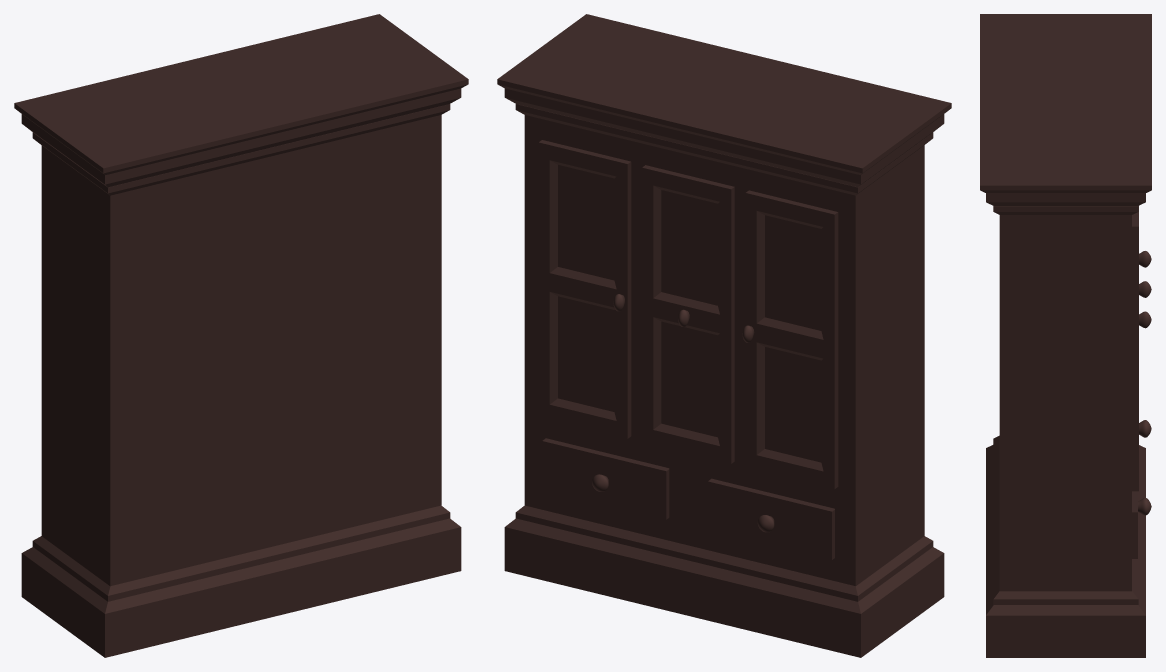
File: Armoire2_7.fbx
3 views of the same model, side by side, from view 1: azimuth 30°, elevation 25°; view 2: azimuth 150°, elevation 25°; view 3: azimuth 270°, elevation 25° (orthographic). The views are drawn at different scales.
Parts seen in each view (by area): view 1: pCube2388, pCube2389, pCube2386, pCube2385, pCube2387, pCube2390; view 2: pCube2388, pCube2389, pCube2424, pCube2420, pCube2423, pCube2386, pCube2385, pCube2406, pCube2414, pCube2387, pCube2390; view 3: pCube2388, pCube2389, pCube2386, pCube2385, pCube2387, pCube2420, pCube2390, pCube2406.
Boxes of the visible parts, bbox=[...] form: pCube2388: bbox=[41, 115, 441, 586]; pCube2389: bbox=[14, 14, 468, 174]; pCube2386: bbox=[21, 518, 461, 657]; pCube2385: bbox=[32, 505, 450, 601]; pCube2387: bbox=[21, 88, 461, 187]; pCube2390: bbox=[32, 104, 450, 195]; pCube2388: bbox=[524, 115, 924, 586]; pCube2389: bbox=[497, 14, 951, 174]; pCube2424: bbox=[745, 190, 838, 489]; pCube2420: bbox=[538, 140, 631, 438]; pCube2423: bbox=[642, 165, 734, 463]; pCube2386: bbox=[504, 518, 944, 657]; pCube2385: bbox=[515, 505, 933, 601]; pCube2406: bbox=[542, 438, 669, 519]; pCube2414: bbox=[708, 478, 834, 559]; pCube2387: bbox=[504, 88, 944, 187]; pCube2390: bbox=[515, 104, 933, 195]; pCube2388: bbox=[999, 215, 1131, 591]; pCube2389: bbox=[980, 14, 1151, 192]; pCube2386: bbox=[986, 445, 1145, 657]; pCube2385: bbox=[993, 435, 1138, 604]; pCube2387: bbox=[986, 193, 1145, 205]; pCube2420: bbox=[1132, 206, 1138, 491]; pCube2390: bbox=[993, 206, 1138, 214]; pCube2406: bbox=[1132, 491, 1137, 558].
Size of the model in its own units: 91.48 by 118 by 38.7.
